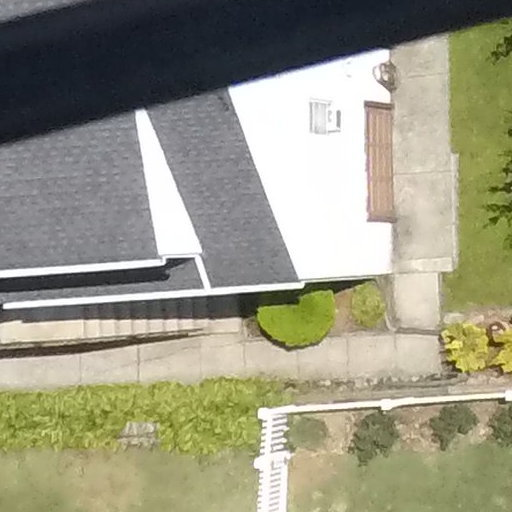hose: (368, 57, 406, 94)
pot: (482, 316, 511, 348)
